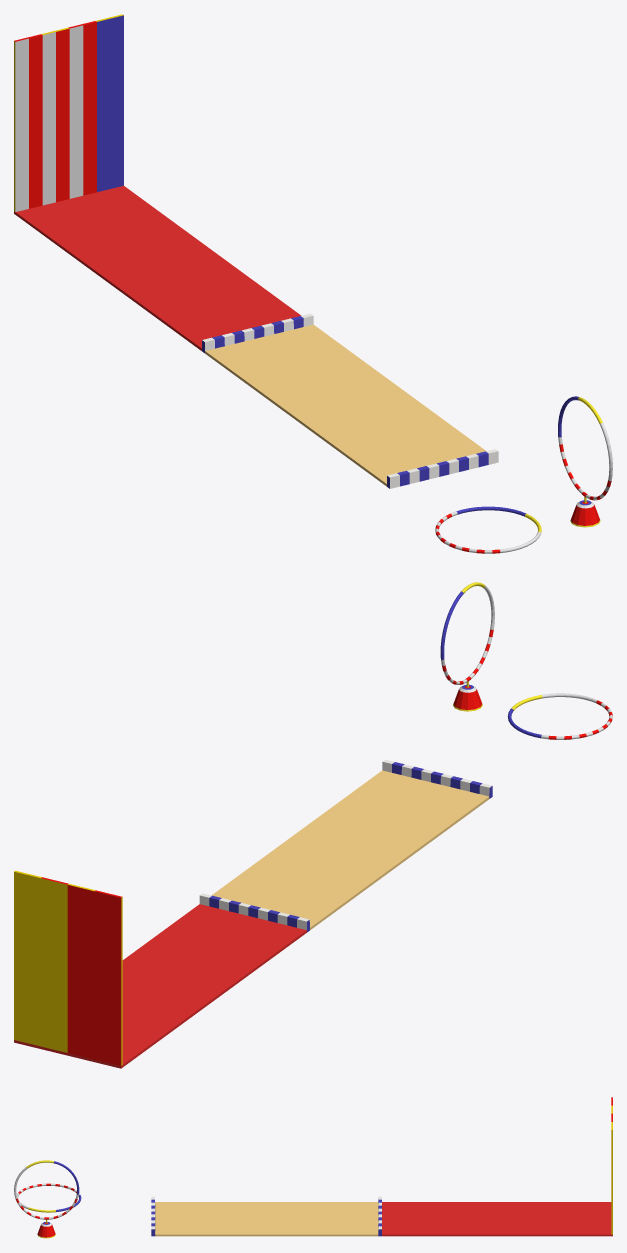
File: America Platforms.fbx
3 views of the same model, one above another, from view 1: azimuth 30°, elevation 25°; view 2: azimuth 150°, elevation 25°; view 3: azimuth 270°, elevation 25° (orthographic). The views are drawn at different scales.
Visible parts, largest first — view 1: Cube.005, l corner.001, r corner.001, sand fill.020, sand fill.001, sand fill.038, sand fill.003, Cylinder.006, Cylinder.008; view 2: Cube.005, r corner.001, l corner.001, sand fill.001, sand fill.003, sand fill.020, sand fill.038, Cylinder.006, Cylinder.008; view 3: r corner.001, sand fill.001, l corner.001, sand fill.003, sand fill.020, sand fill.038, Cylinder.006, Cylinder.008, Cube.005.
Boxes of the visible parts, <box> form: Cube.005: <box>14,14,123,211</box>; l corner.001: <box>202,313,372,396</box>; r corner.001: <box>327,414,498,488</box>; sand fill.020: <box>76,230,247,304</box>; sand fill.001: <box>264,368,435,442</box>; sand fill.038: <box>14,186,184,259</box>; sand fill.003: <box>139,276,301,350</box>; Cylinder.006: <box>558,396,612,527</box>; Cylinder.008: <box>435,506,541,553</box>; Cube.005: <box>14,870,122,1065</box>; r corner.001: <box>324,759,492,841</box>; l corner.001: <box>199,858,368,932</box>; sand fill.001: <box>262,813,430,886</box>; sand fill.003: <box>138,904,306,977</box>; sand fill.020: <box>122,949,244,1022</box>; sand fill.038: <box>14,1006,182,1068</box>; Cylinder.006: <box>440,582,494,711</box>; Cylinder.008: <box>507,693,612,739</box>; r corner.001: <box>151,1196,228,1236</box>; sand fill.001: <box>228,1202,305,1236</box>; l corner.001: <box>305,1196,381,1236</box>; sand fill.003: <box>382,1202,458,1236</box>; sand fill.020: <box>459,1202,535,1236</box>; sand fill.038: <box>536,1202,612,1236</box>; Cylinder.006: <box>14,1160,79,1238</box>; Cylinder.008: <box>17,1183,81,1212</box>; Cube.005: <box>611,1097,612,1234</box>.
Bounding box in the file's own units: 285 × 305 × 1557.
